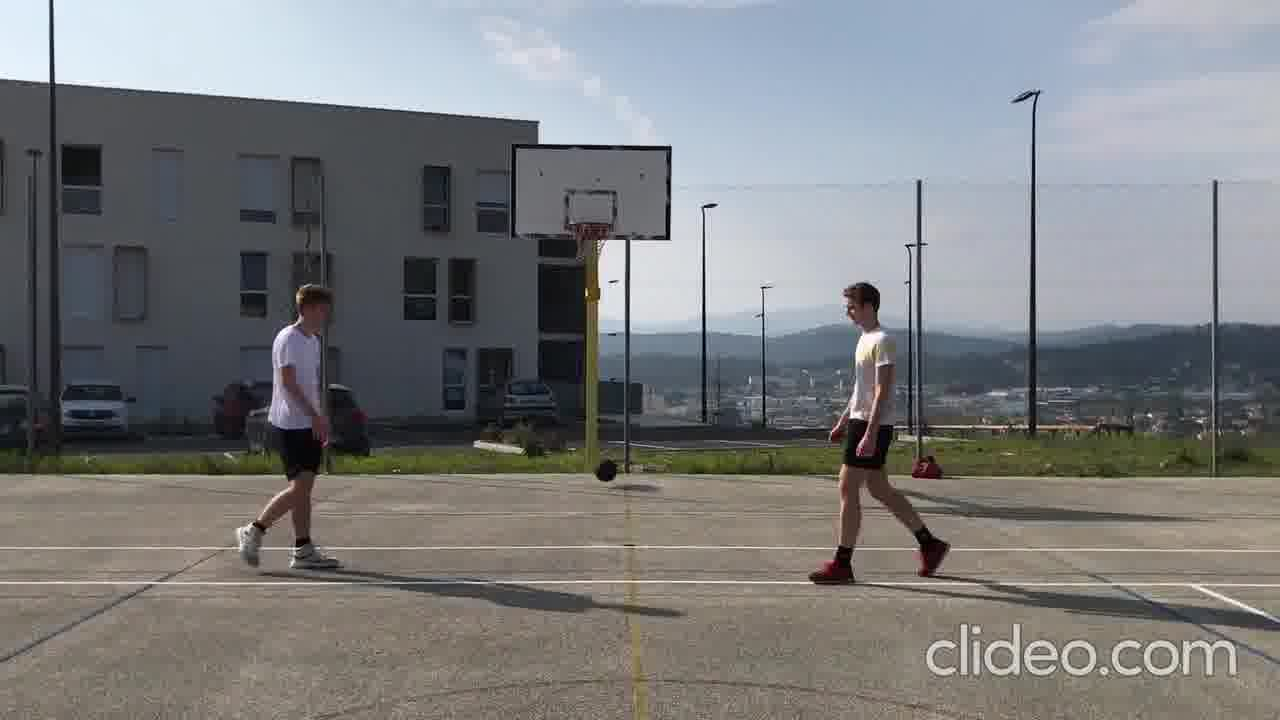jugador: (795, 274, 961, 594)
